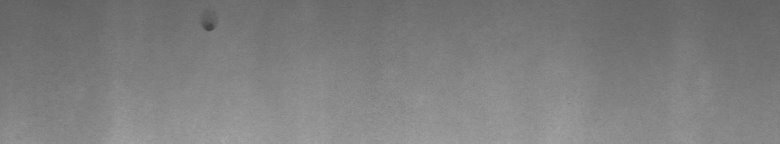fi: (200, 20, 220, 37)
